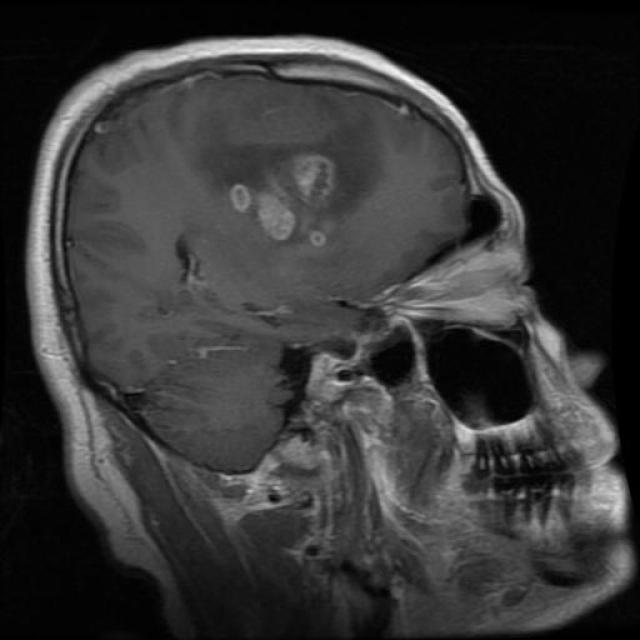glioma: (225, 148, 348, 252)
